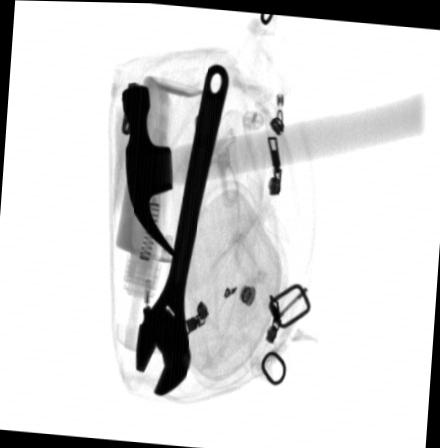Hammer: (122, 83, 424, 256)
Wrench: (135, 61, 230, 395)
